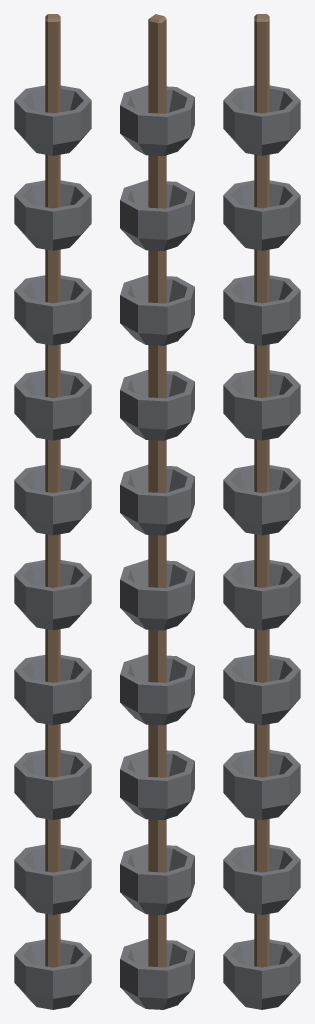
Rendered from feudal-japan-castle-town-rain-chain-197f5600__26516.glb.
The picture shows the model from 3 angles, left to right: view 1: azimuth 90°, elevation 25°; view 2: azimuth 150°, elevation 25°; view 3: azimuth 270°, elevation 25°; orthographic projection.
Visible parts, largest first — view 1: rain-chain; view 2: rain-chain; view 3: rain-chain.
Part boxes in pixels (<box>): rain-chain: <box>14,14,91,1009</box>; rain-chain: <box>120,14,194,1009</box>; rain-chain: <box>223,14,300,1009</box>.
Bounding box in the file's own units: 0.2 × 2.8 × 0.2.
